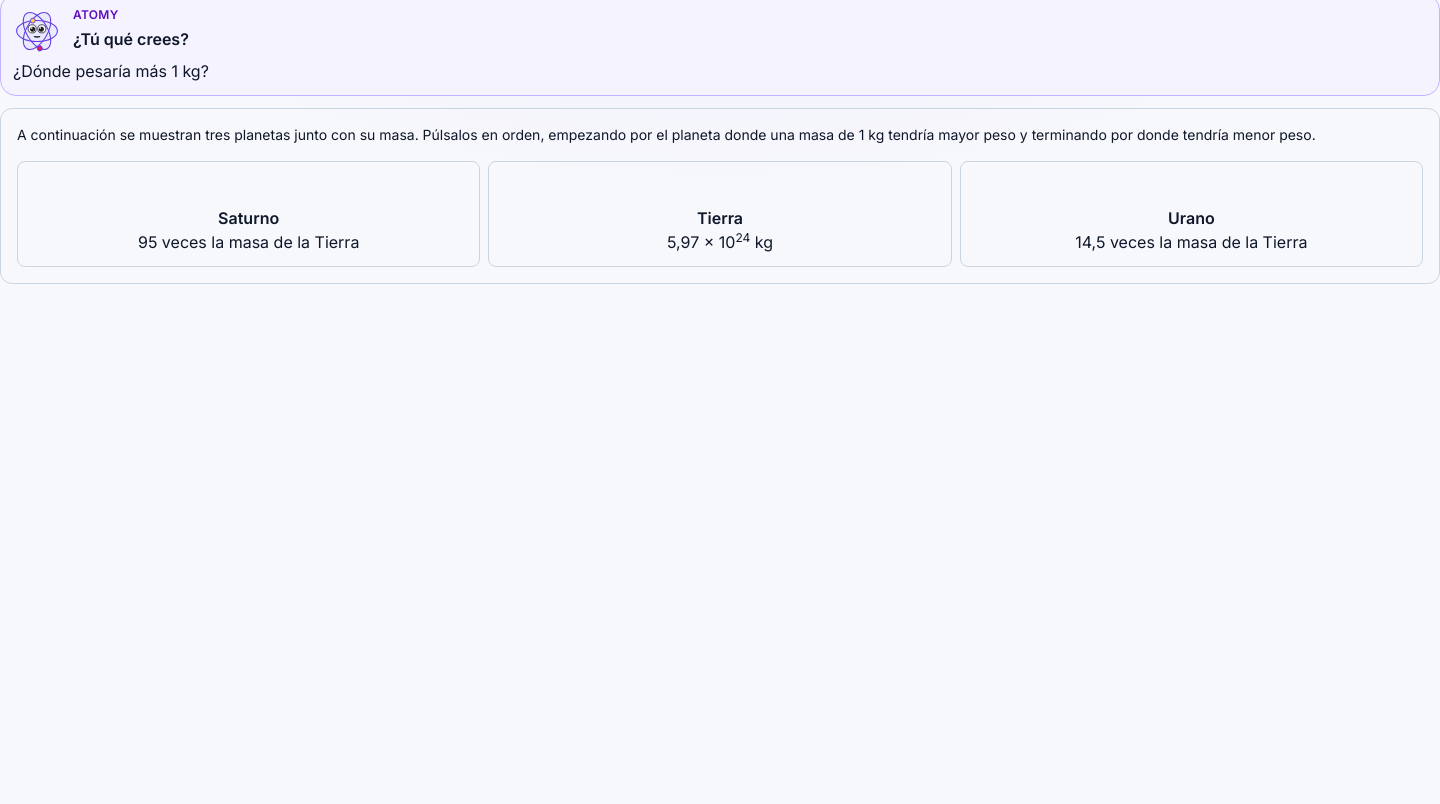
Test: PlanetRanking › tells the reader they got it right
Click the button "Saturno 95 veces la masa de la Tierra".
click(249, 214)  # box [17,161,480,267]
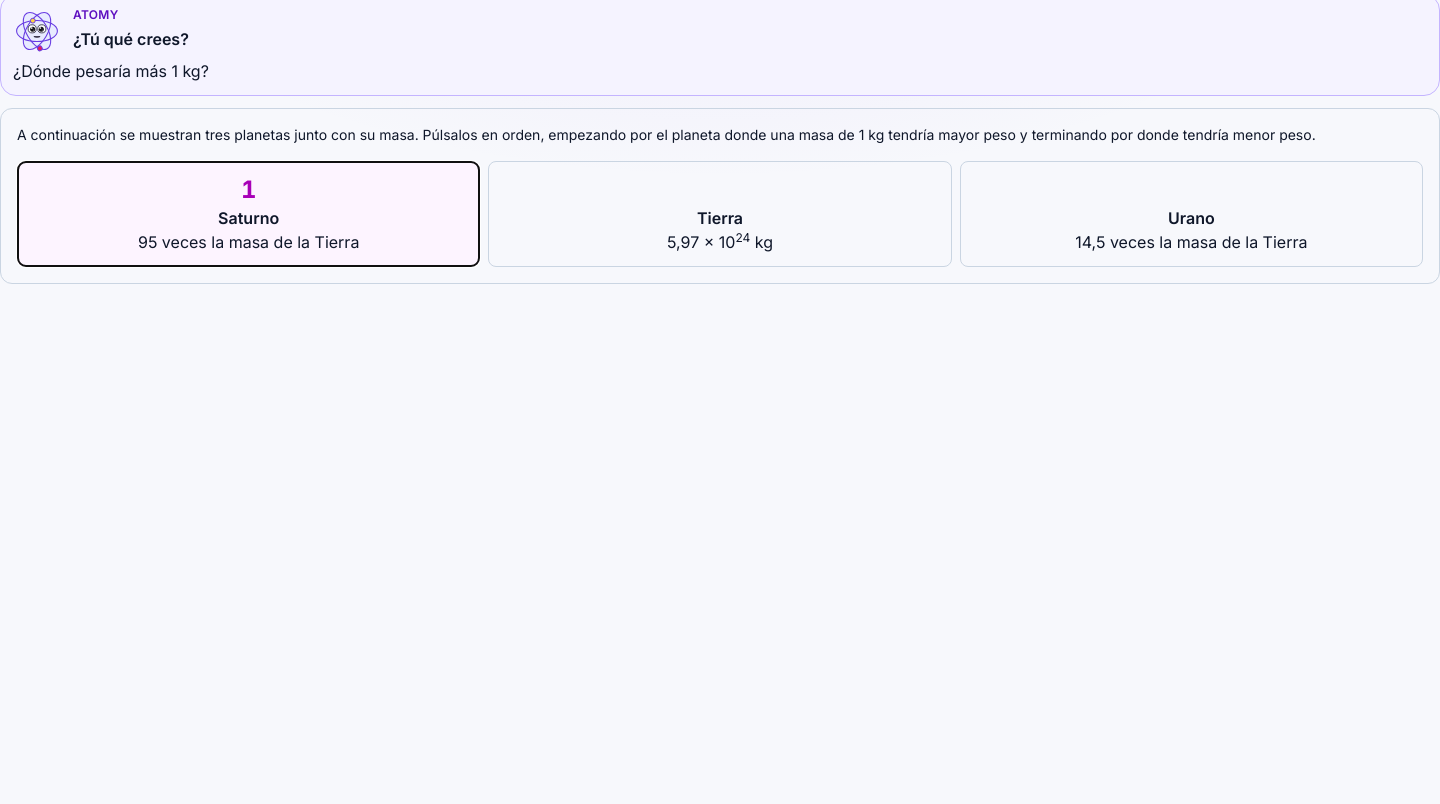
Click the button "Tierra 5,97 × 1024 kg".
click(720, 214)  # box [488,161,952,267]
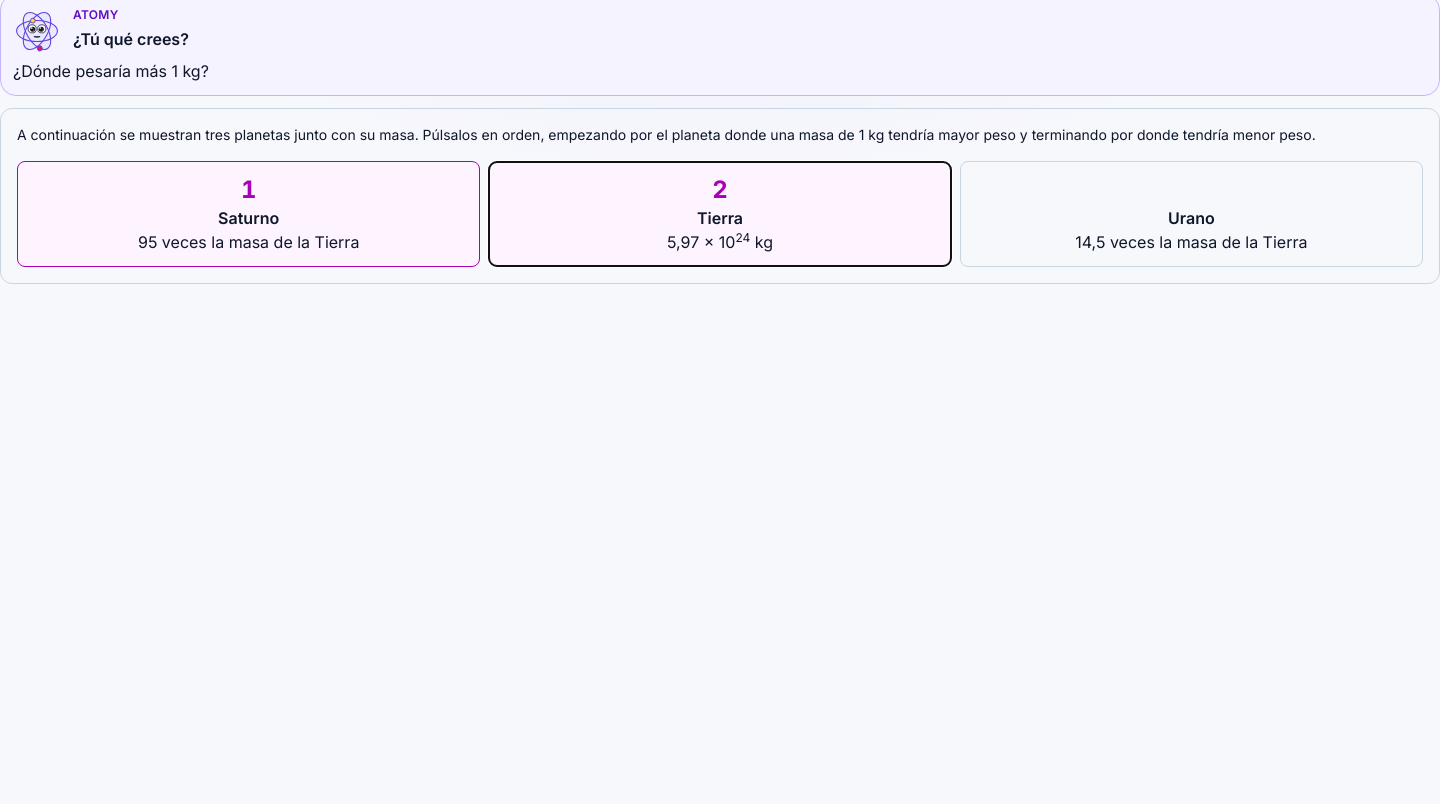
Click the button "Urano 14,5 veces la masa de la Tierra".
click(1191, 214)  # box [960,161,1423,267]
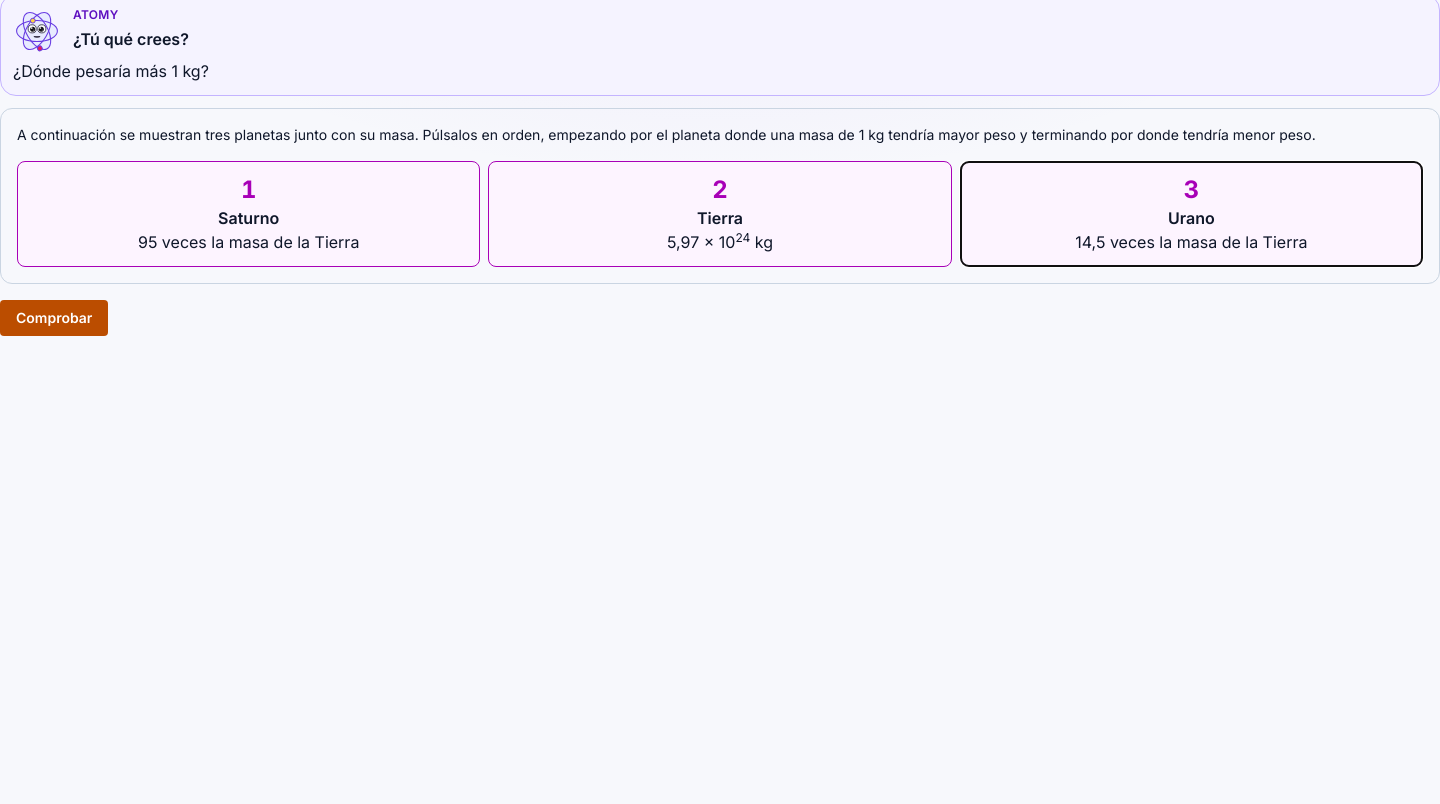
Click the button "Comprobar".
click(54, 318)  # box [0,300,108,336]
(page scrolled)
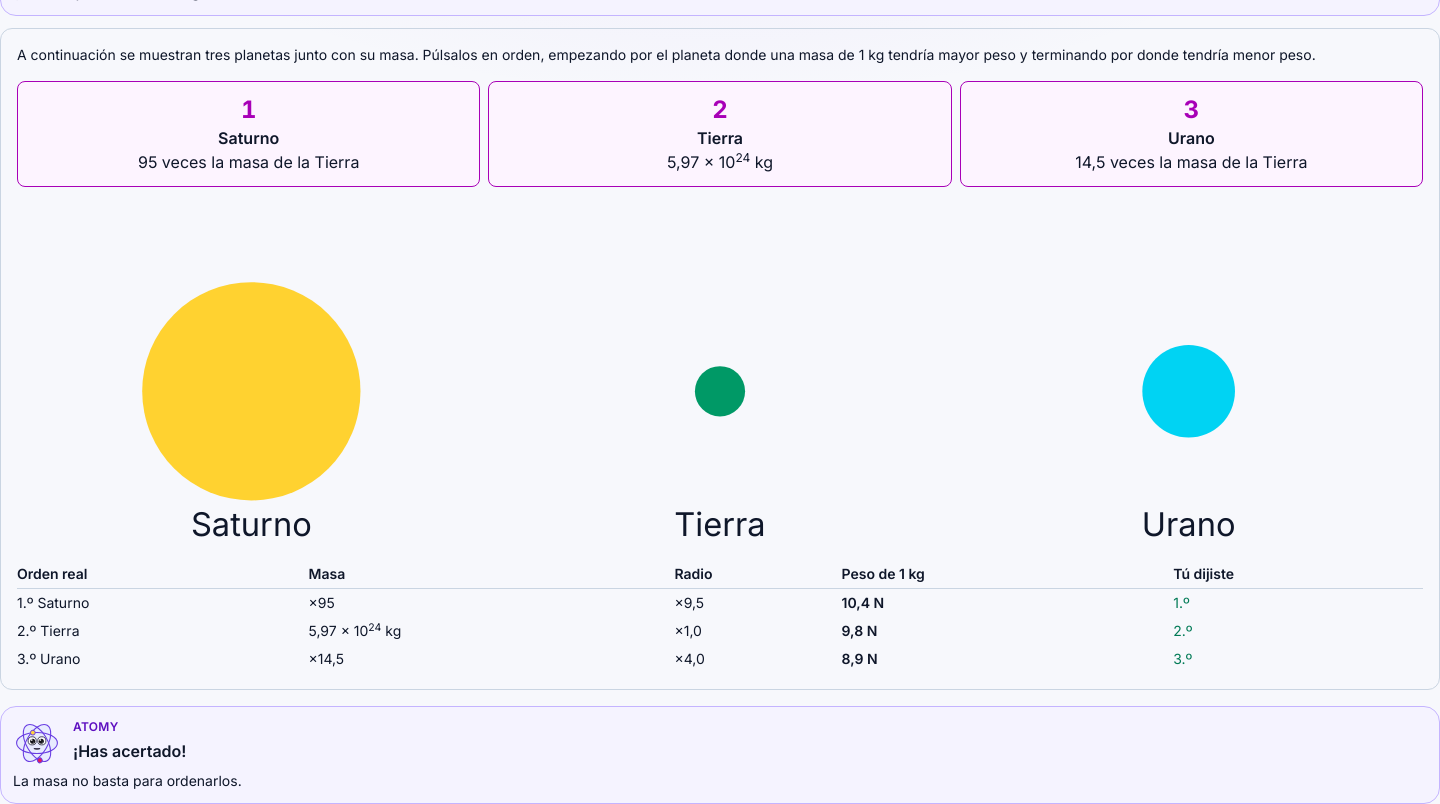
Now the message shows "¡Has acertado!", box [73,741,186,761]
